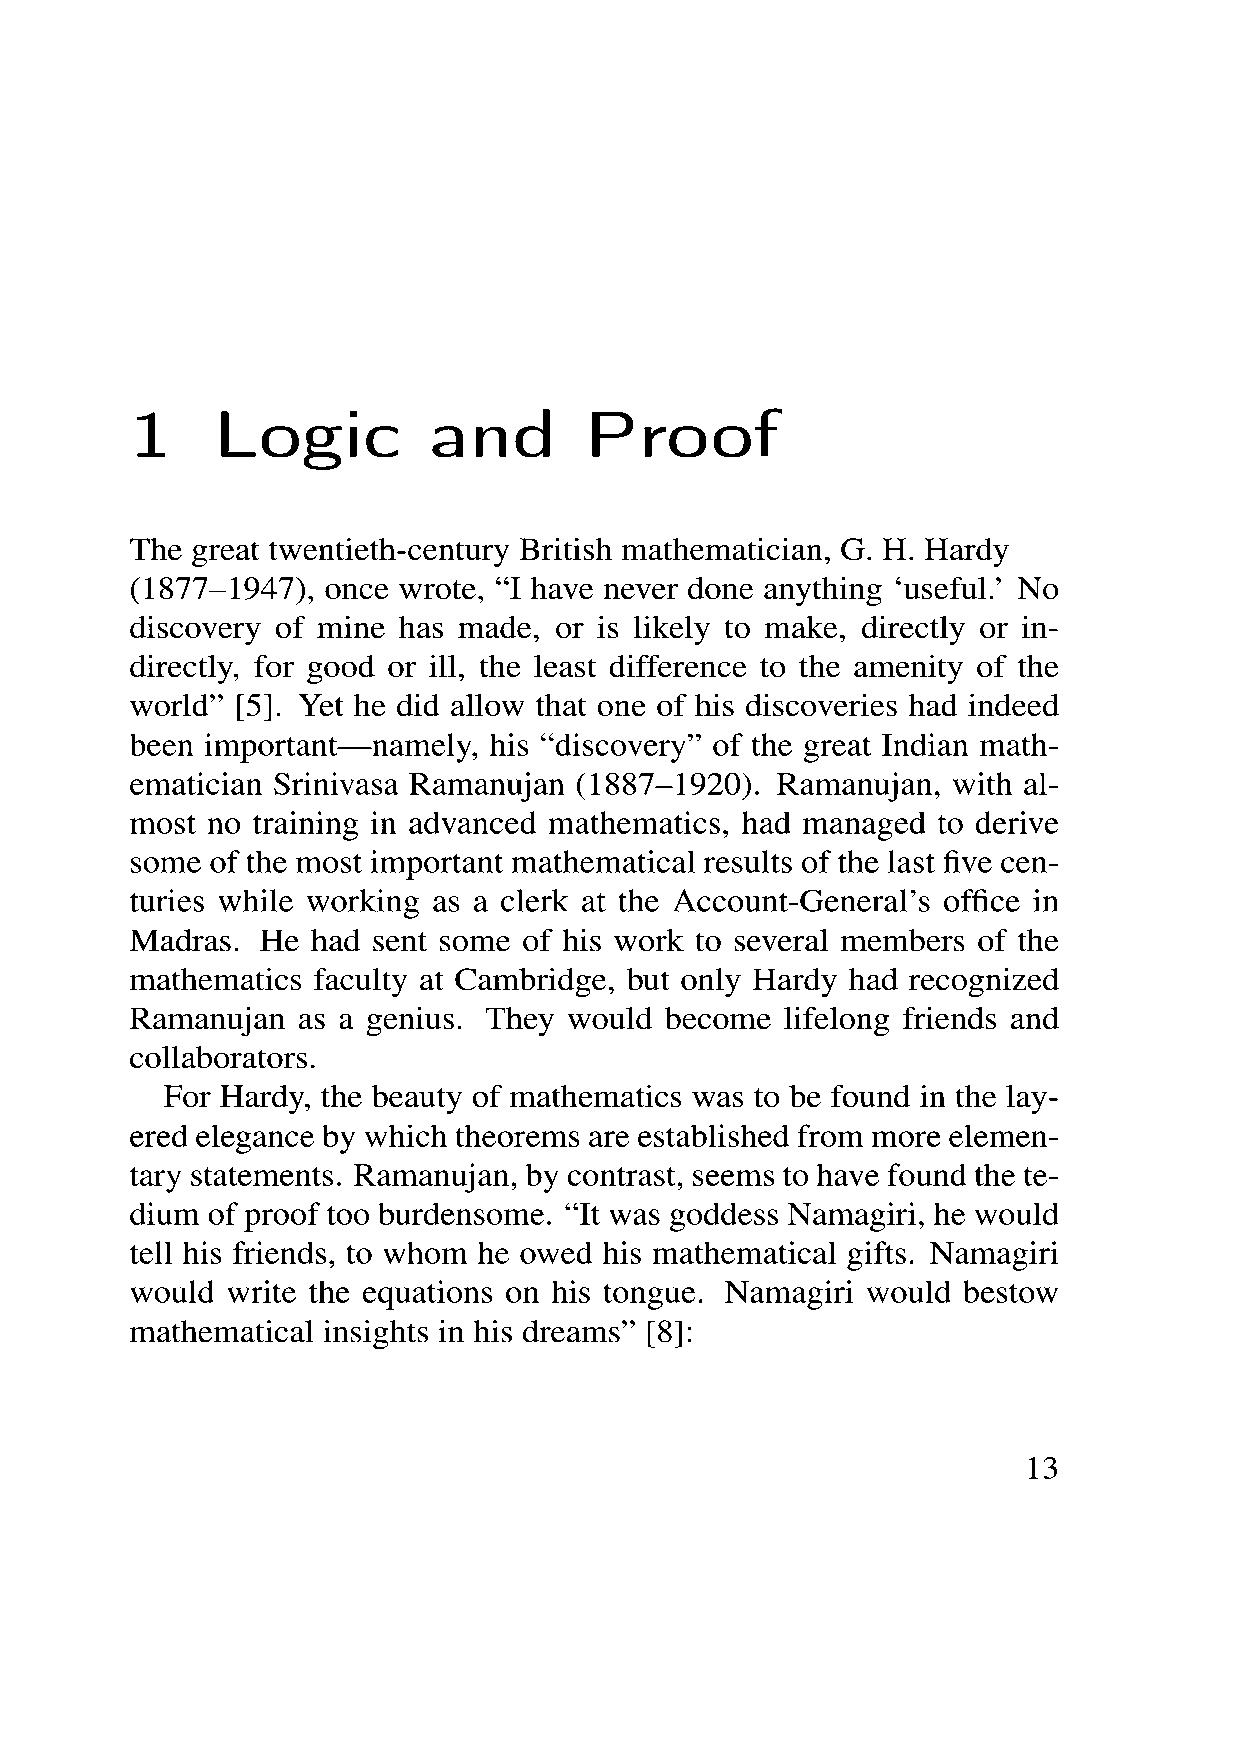chapter: (133, 403, 786, 472)
content: (123, 530, 1062, 1351)
content_pagenumber: (1023, 1451, 1060, 1483)
